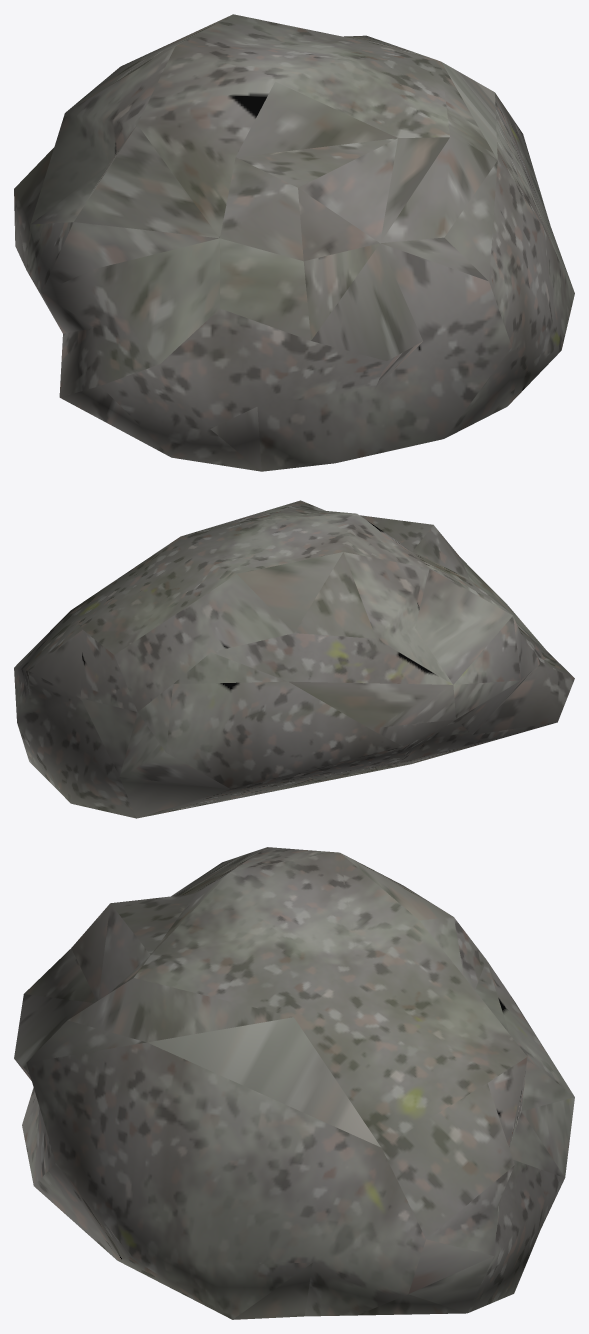
The model's file is boulder_050_LOD2.glb.
3 views of the same model, one above another, from view 1: azimuth 30°, elevation 25°; view 2: azimuth 150°, elevation 25°; view 3: azimuth 270°, elevation 25° (orthographic). The views are drawn at different scales.
Visible parts, largest first — view 1: Boulder_050_LOD2; view 2: Boulder_050_LOD2; view 3: Boulder_050_LOD2.
Part boxes in pixels (x1=…): Boulder_050_LOD2: x1=14, y1=14, x2=574, y2=471; Boulder_050_LOD2: x1=14, y1=500, x2=574, y2=818; Boulder_050_LOD2: x1=14, y1=847, x2=574, y2=1319.
Bounding box in the file's own units: 0.4753 × 0.2557 × 0.4108.
Materials: 1 (1 with a texture image).
